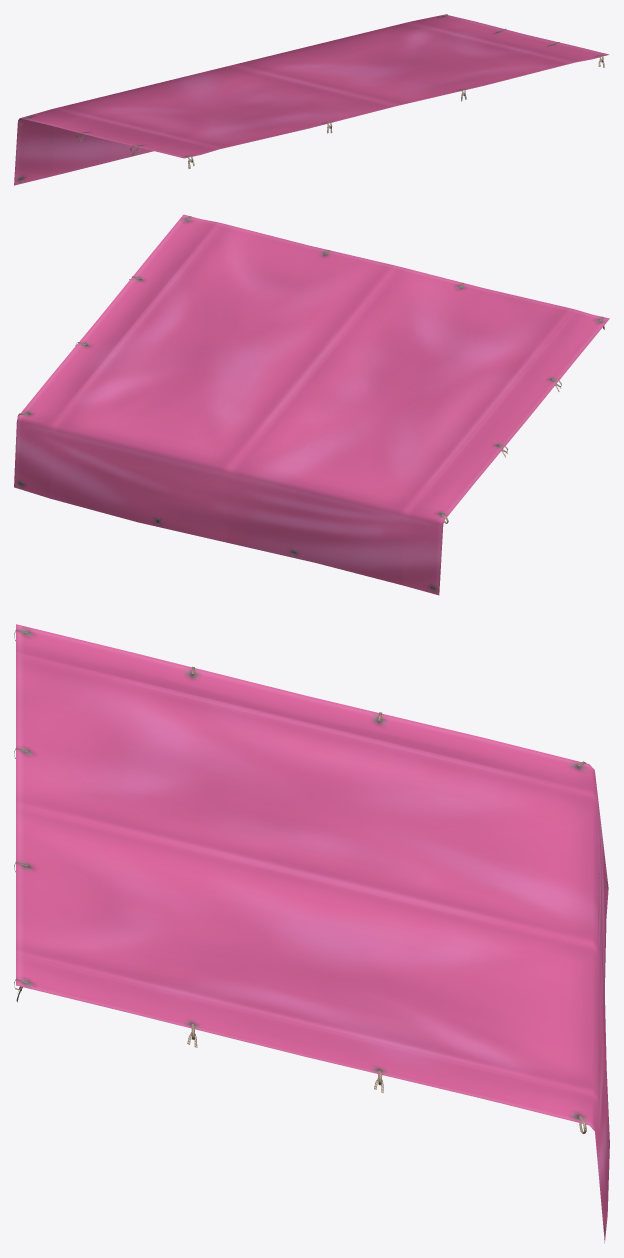
Rendered from jsf_Ceiling_s03_c06_t01.fbx.
3 views of the same model, one above another, from view 1: azimuth 30°, elevation 25°; view 2: azimuth 150°, elevation 25°; view 3: azimuth 270°, elevation 25° (orthographic). The views are drawn at different scales.
Visible parts, largest first — view 1: jsf_Ceiling_s03_c06_t01; view 2: jsf_Ceiling_s03_c06_t01; view 3: jsf_Ceiling_s03_c06_t01.
Part boxes in pixels (bbox=[...]): jsf_Ceiling_s03_c06_t01: bbox=[14, 14, 609, 185]; jsf_Ceiling_s03_c06_t01: bbox=[14, 214, 609, 595]; jsf_Ceiling_s03_c06_t01: bbox=[14, 624, 609, 1243].
Size of the model in its own units: 315 by 106 by 216.
